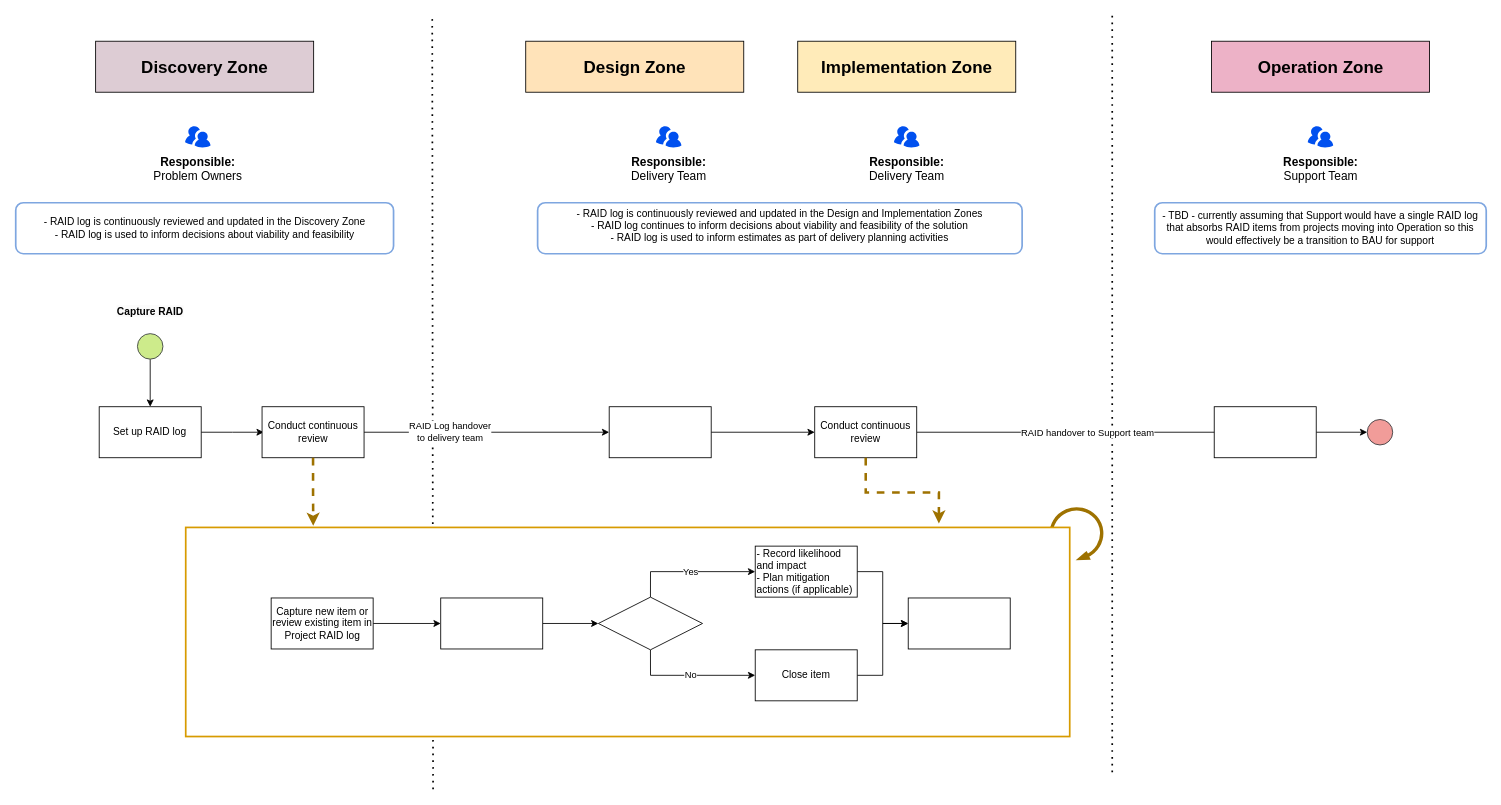
The diagram is 1501 pixels wide and 805 high, and some of its shapes have lost their labels. Each missing label, with the box of its shape:
Capture any relevant details: (440, 597, 543, 649)
Continuous Reporting: (907, 597, 1010, 649)
Continuous Review & Continuous Reporting: (184, 526, 1070, 737)
Delivery team decide how to manage, maintain and store the RAID log: (608, 406, 711, 458)
Is item relevant?: (598, 596, 703, 650)
Support team take ownership of open RAID items: (1213, 406, 1316, 458)
